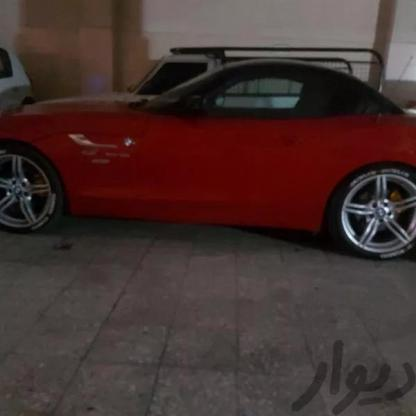Car: (0, 11, 416, 288), (25, 46, 391, 136), (0, 32, 43, 126)
